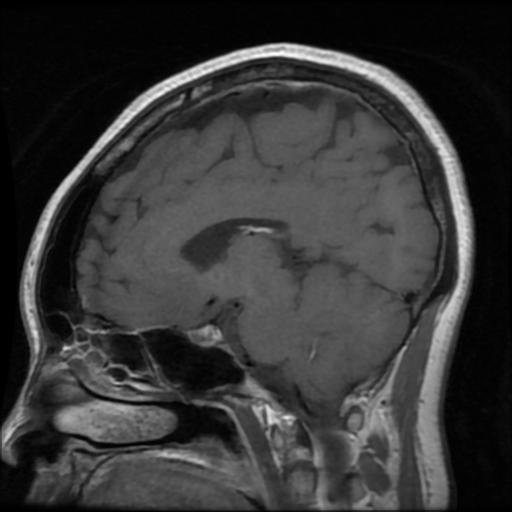Pituirity_tumour: (188, 325, 221, 346)
